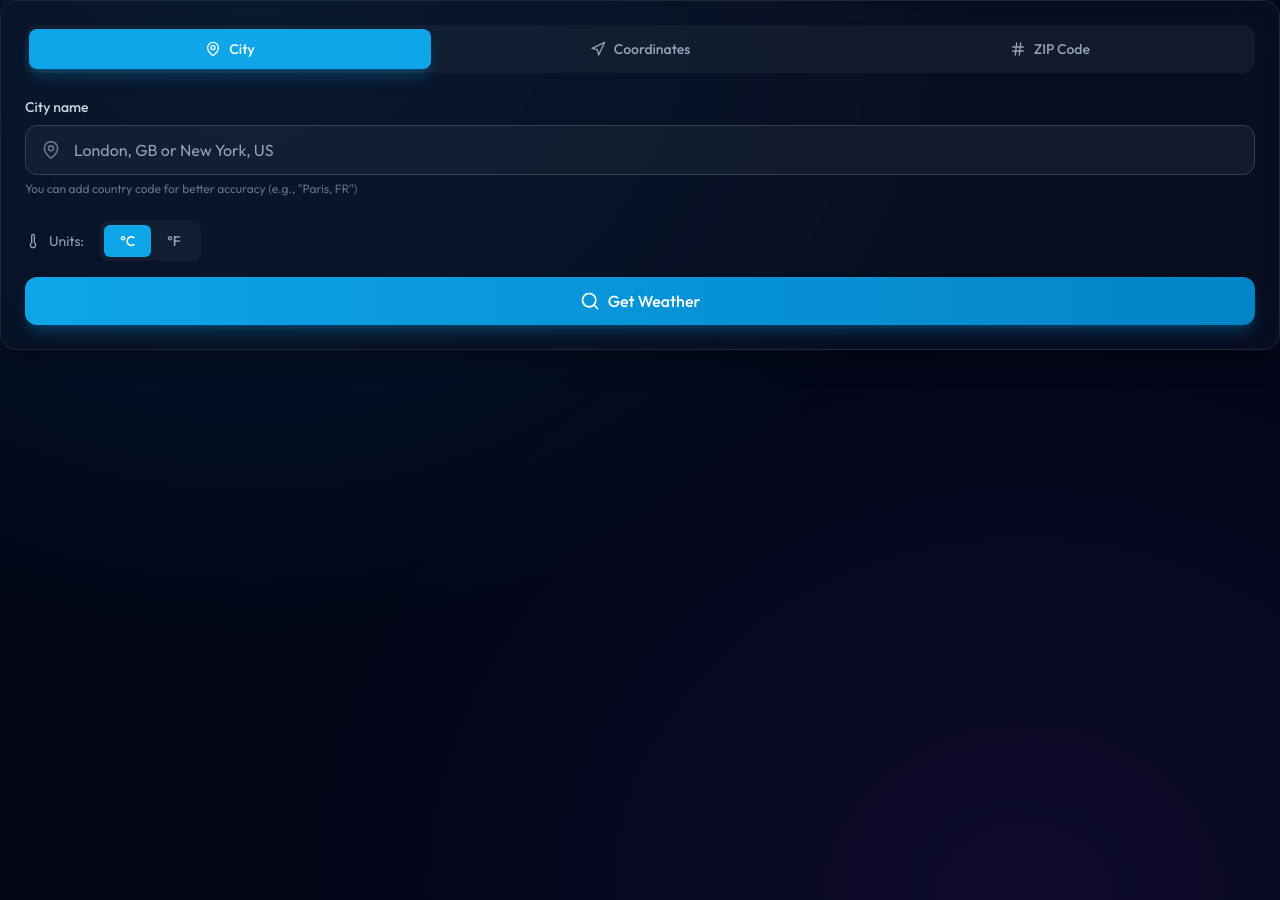
Test: WeatherSearch Component › switches to ZIP code input when tab clicked
Click the button "ZIP Code" at point(1050, 49), box [849, 29, 1251, 69]
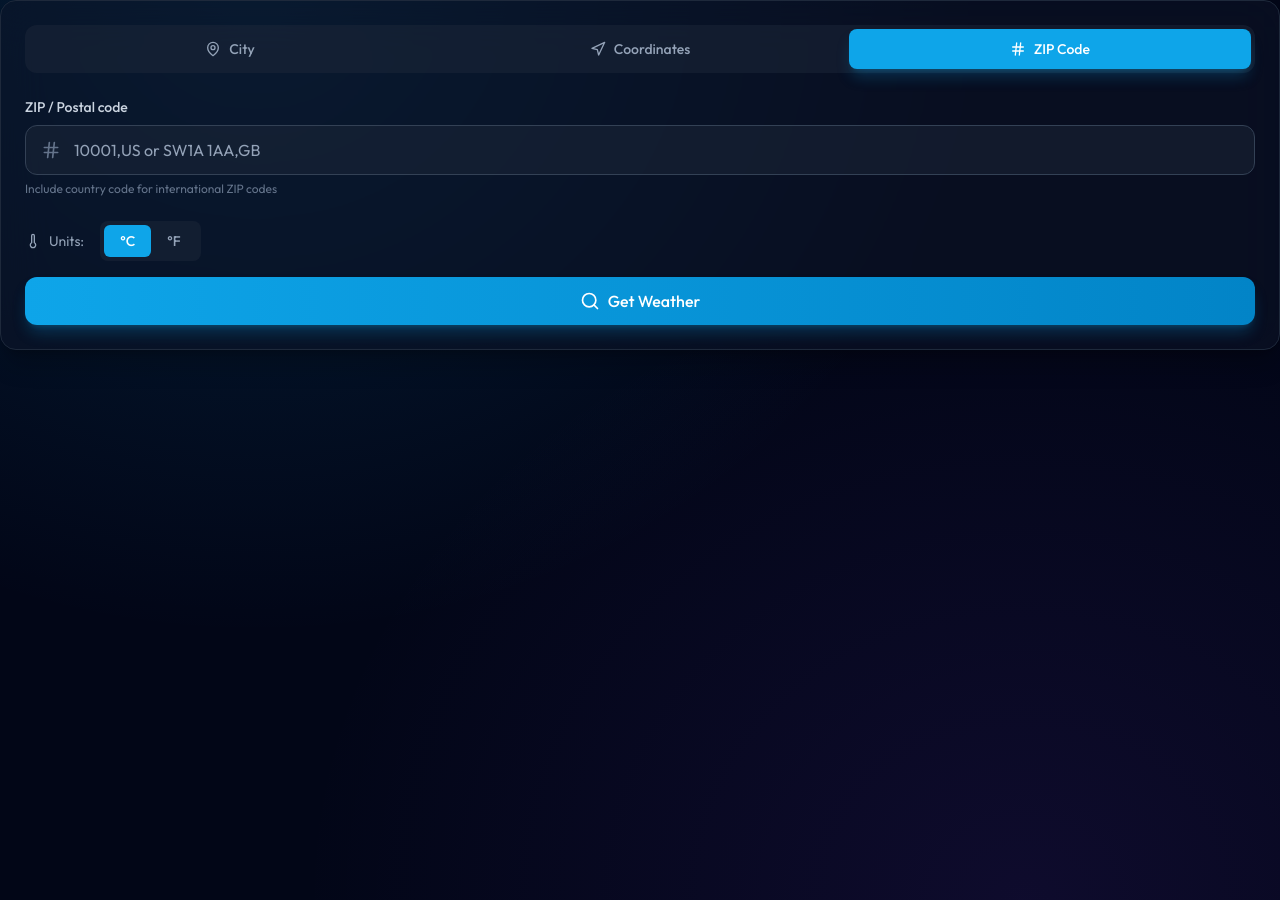
Now the field with placeholder "10001,US or SW1A 1AA,GB" is shown, box [25, 125, 1255, 175]
